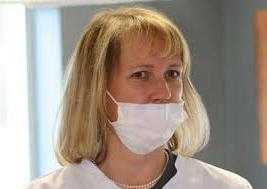mask_weared_incorrect: (119, 62, 182, 147)
